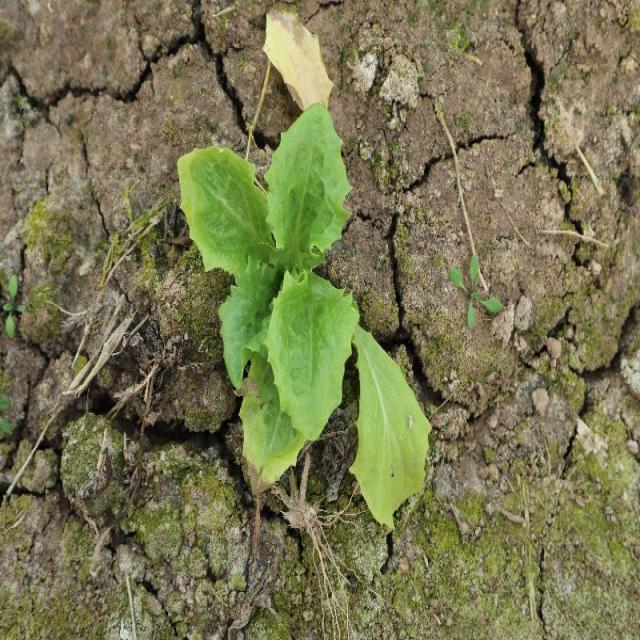crop: (175, 102, 433, 533)
